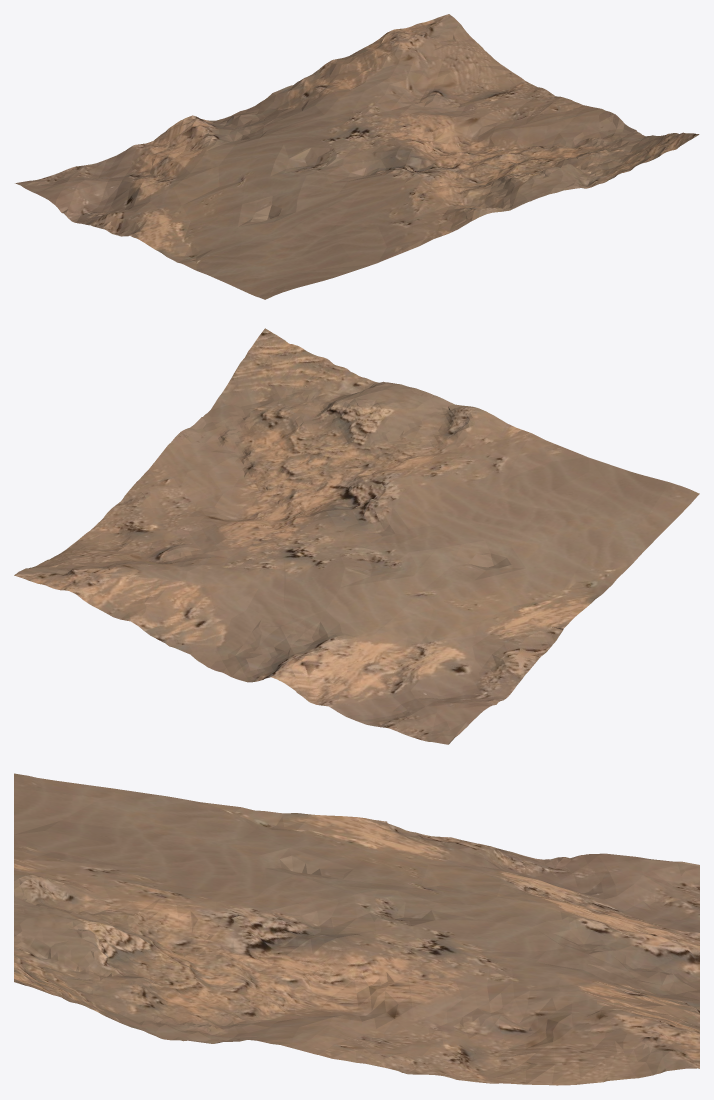
3 renders of one model, top to bottom at view 1: azimuth 30°, elevation 25°; view 2: azimuth 150°, elevation 25°; view 3: azimuth 270°, elevation 25°, orthographic. The views are drawn at different scales.
Size of the model in its own units: 2.09 by 0.5917 by 2.09.
Materials: 2 (2 with a texture image).
